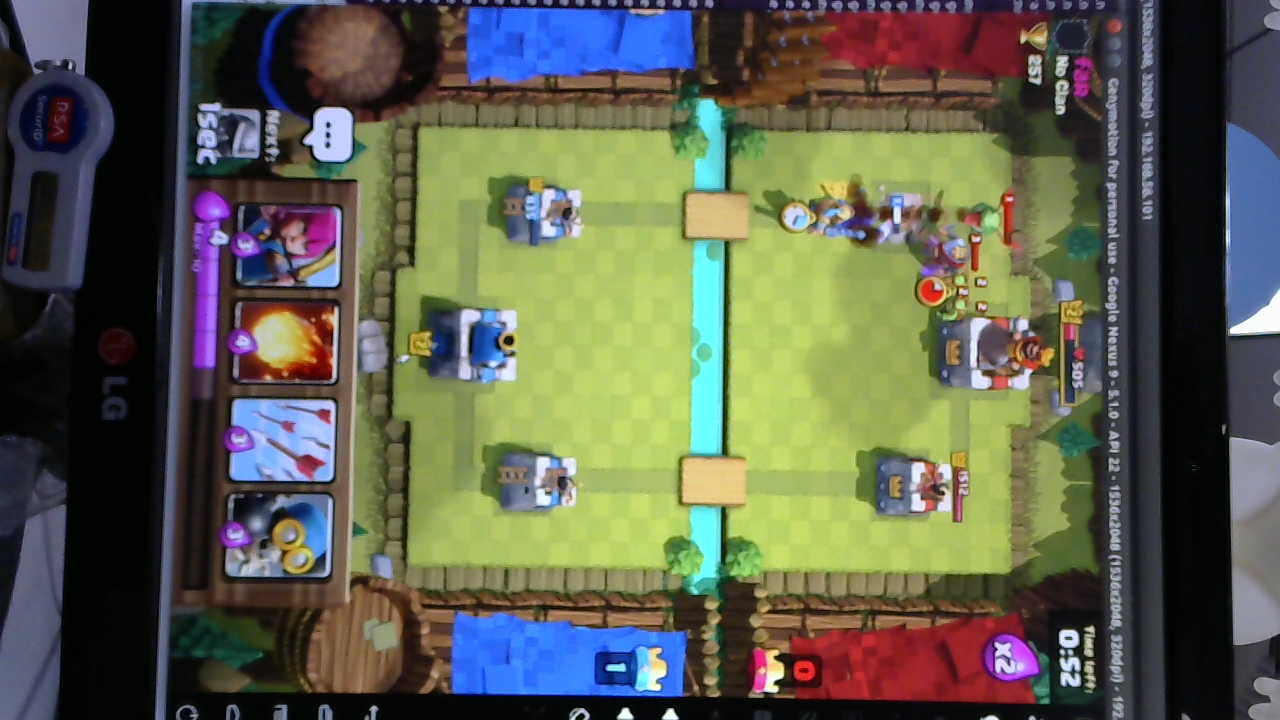arena: (501, 179, 584, 246), (499, 448, 581, 514)
dragon: (952, 197, 1005, 242)
earena: (874, 455, 953, 520)
eking: (935, 307, 1049, 394)
king: (432, 305, 522, 383)
knight: (928, 235, 972, 277)
prince: (807, 195, 873, 241)
speargoblins: (935, 274, 994, 319)
witch: (834, 202, 901, 246)
